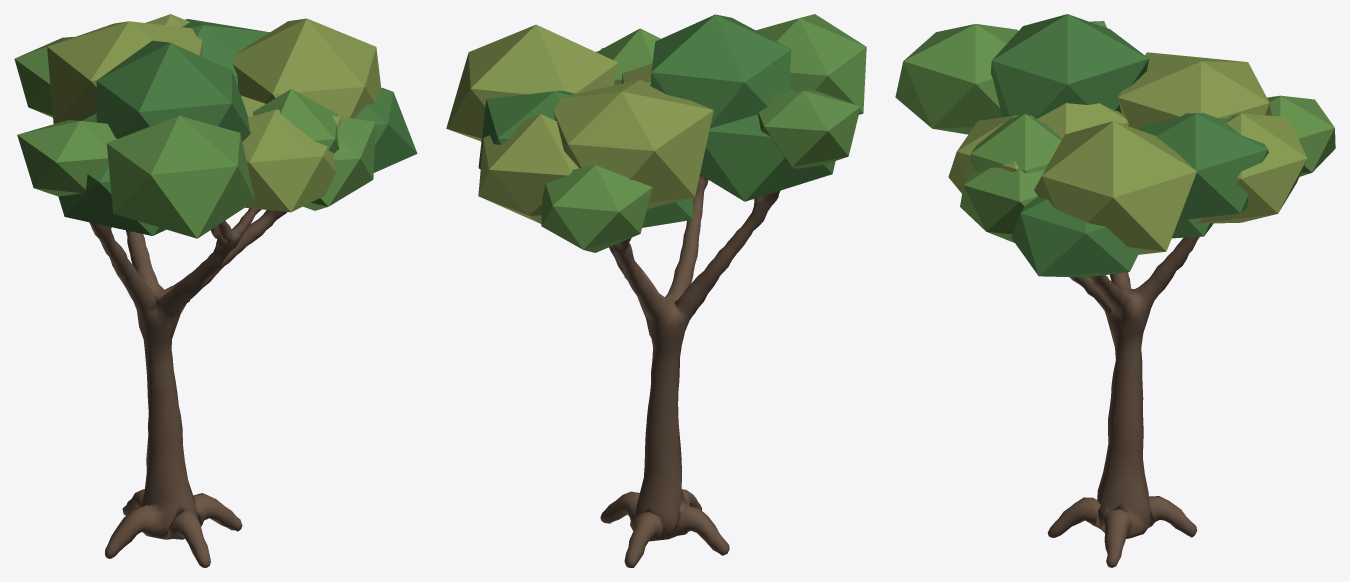
Rendered from prop_asgard_tree.glb.
3 renders of one model, left to right at view 1: azimuth 30°, elevation 25°; view 2: azimuth 150°, elevation 25°; view 3: azimuth 270°, elevation 25°, orthographic. The views are drawn at different scales.
Visible parts, largest first — view 1: tree_leaves1, tree_leaves2, tree_bark, tree_leaves0; view 2: tree_leaves2, tree_leaves1, tree_leaves0, tree_bark; view 3: tree_leaves2, tree_leaves0, tree_leaves1, tree_bark.
Boxes of the visible parts, box(x1,y1,x2,y2) form: tree_leaves1: box(14, 36, 375, 238); tree_leaves2: box(47, 14, 381, 212); tree_bark: box(89, 208, 286, 567); tree_leaves0: box(58, 19, 417, 235); tree_leaves2: box(446, 24, 713, 223); tree_leaves1: box(541, 14, 866, 252); tree_leaves0: box(478, 14, 835, 227); tree_bark: box(600, 175, 780, 567); tree_leaves2: box(948, 52, 1307, 254); tree_leaves0: box(990, 14, 1268, 277); tree_leaves1: box(895, 21, 1335, 242); tree_bark: box(1047, 237, 1199, 567).
Bounding box in the file's own units: 7.48 × 10.21 × 7.96.
